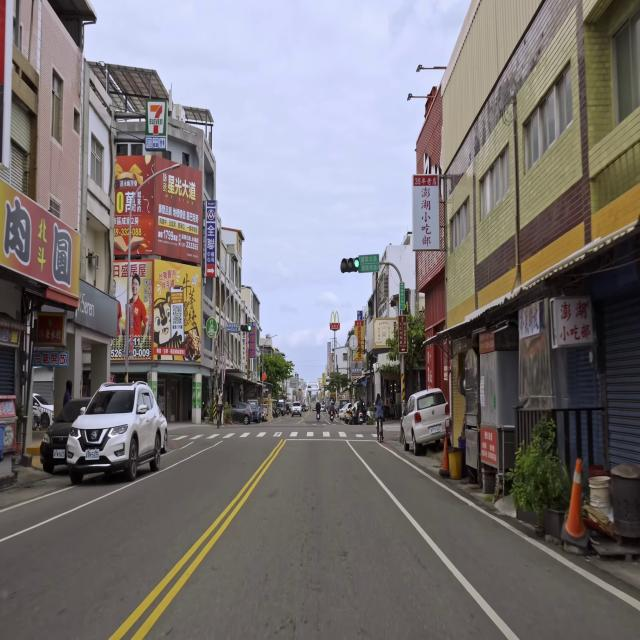green light: (340, 258, 360, 271), (240, 324, 251, 332)
